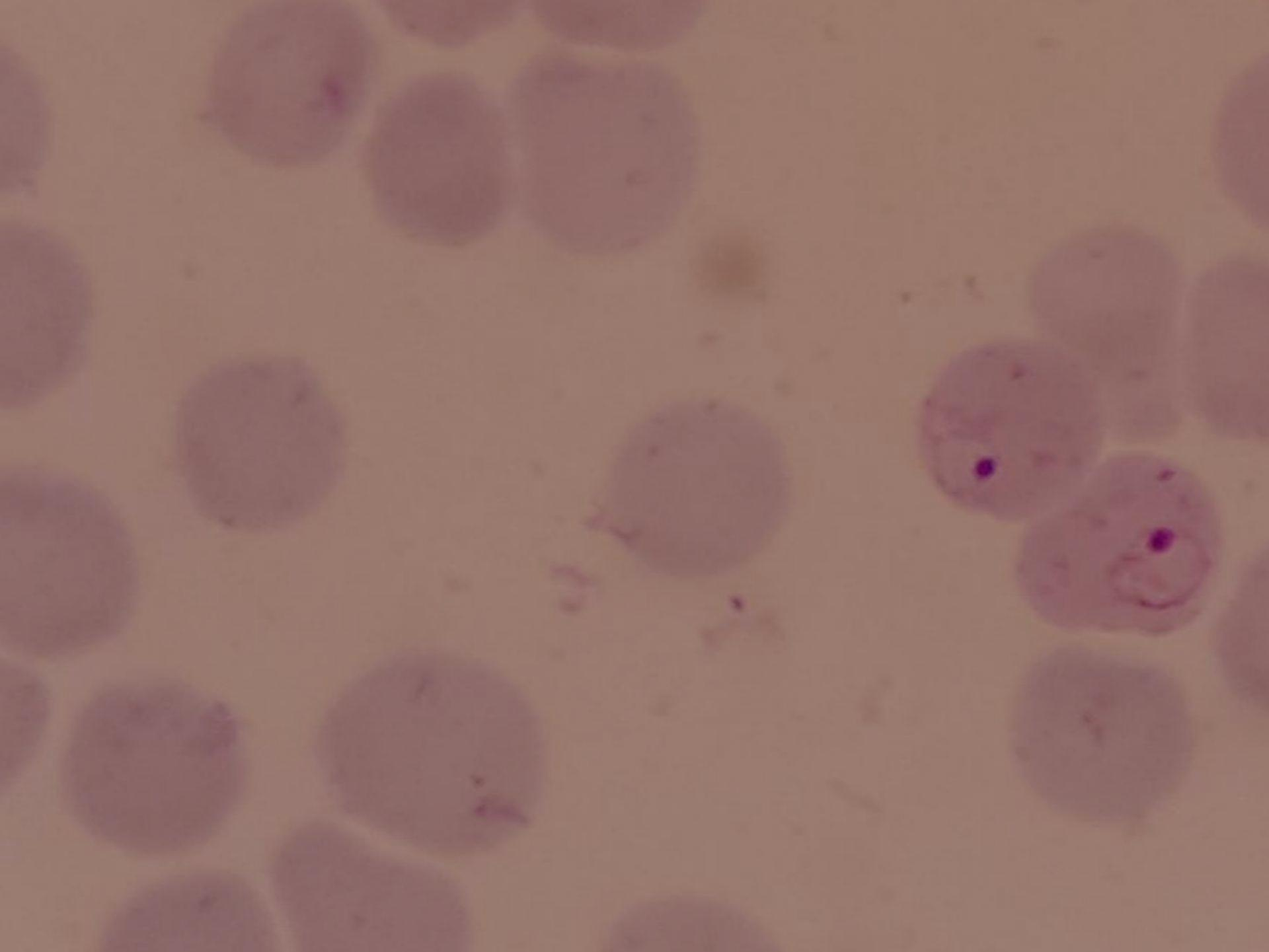Infected: (1015, 453, 1226, 633), (920, 339, 1106, 519)
Uninfected: (319, 653, 543, 856), (511, 50, 699, 251), (1028, 218, 1192, 442), (595, 402, 787, 581), (1006, 646, 1197, 822), (69, 676, 242, 853), (173, 354, 346, 527), (207, 0, 376, 170), (362, 73, 512, 247), (278, 818, 467, 952), (0, 473, 139, 655)
